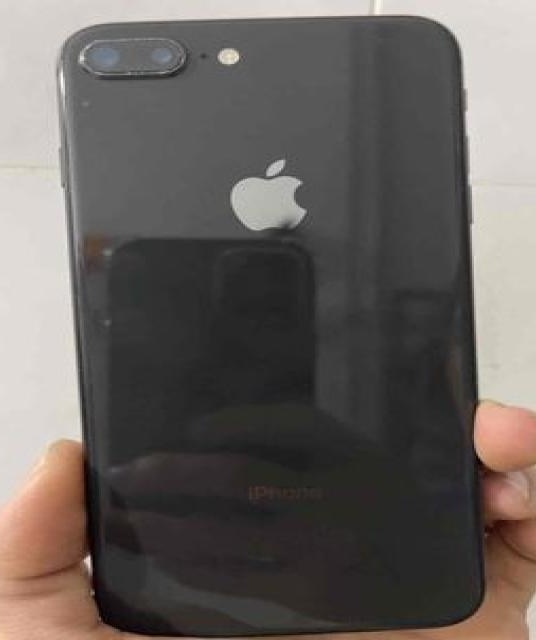scratch: (61, 32, 195, 80), (260, 214, 305, 236), (88, 309, 116, 333), (95, 245, 116, 263), (74, 93, 88, 111)
